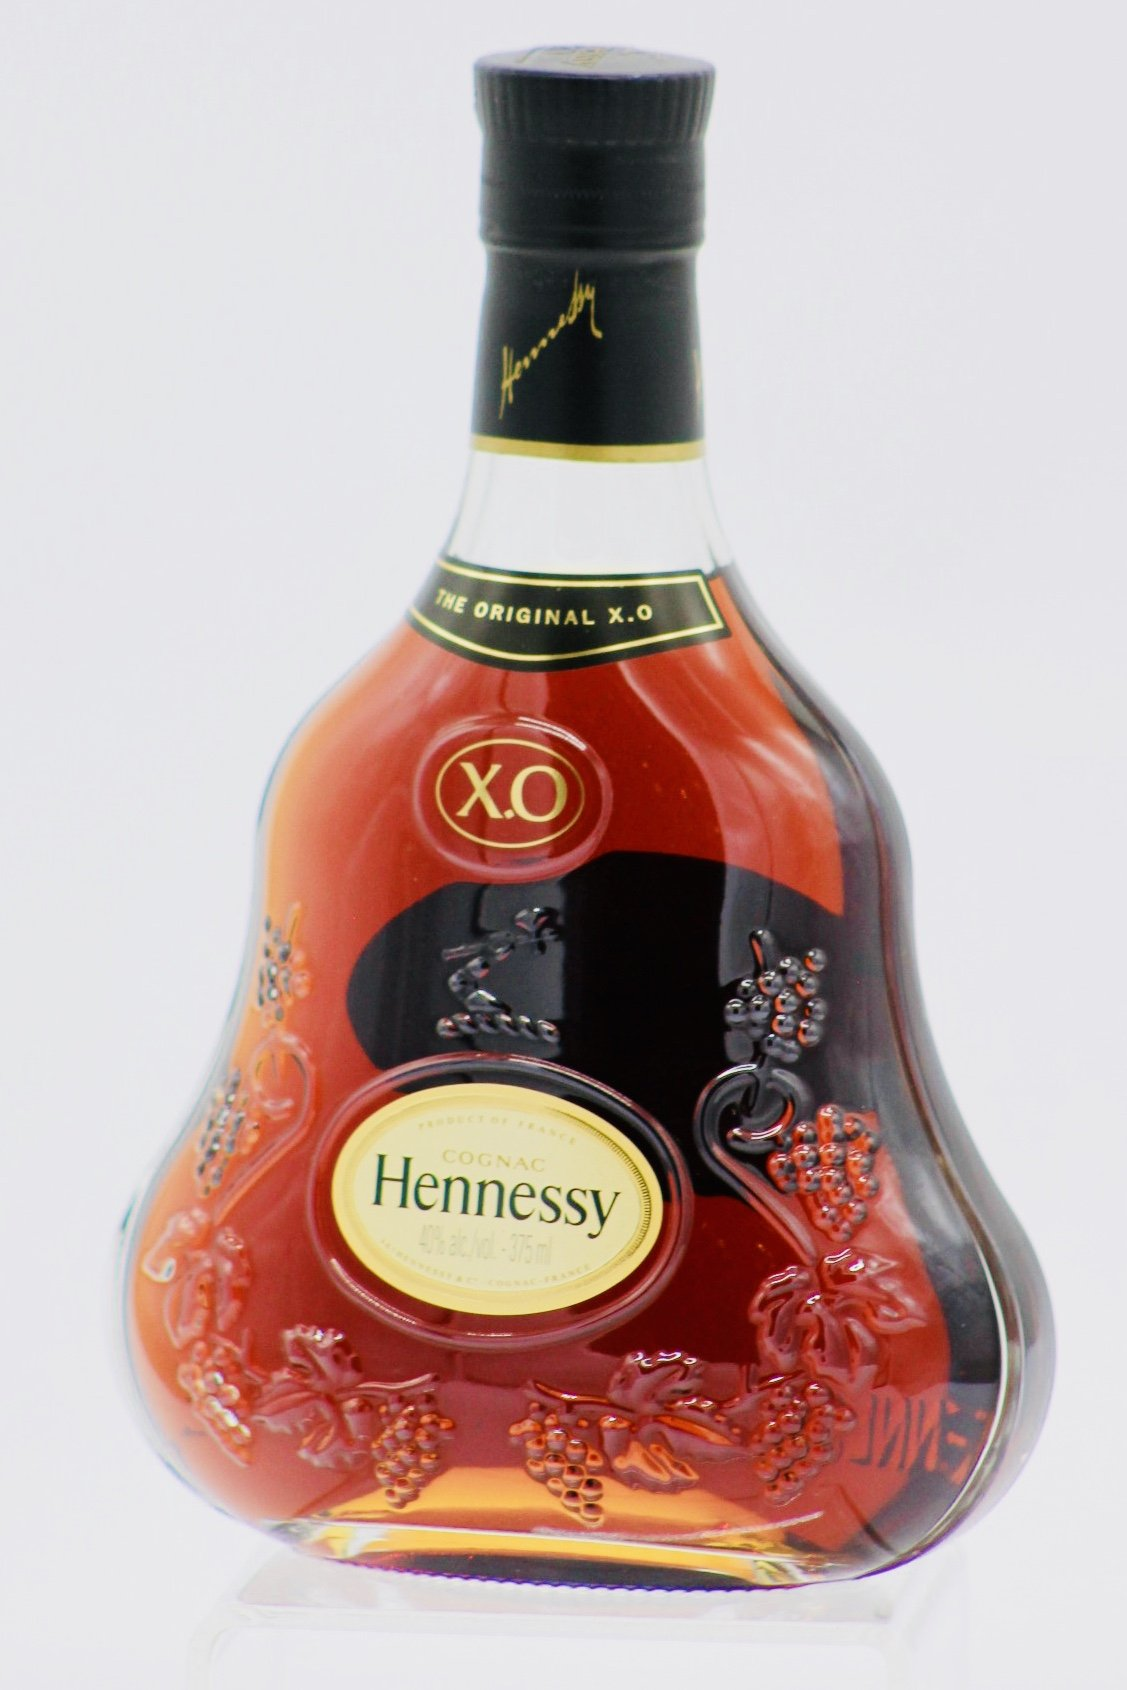Hennessy: (70, 23, 1087, 1637)
